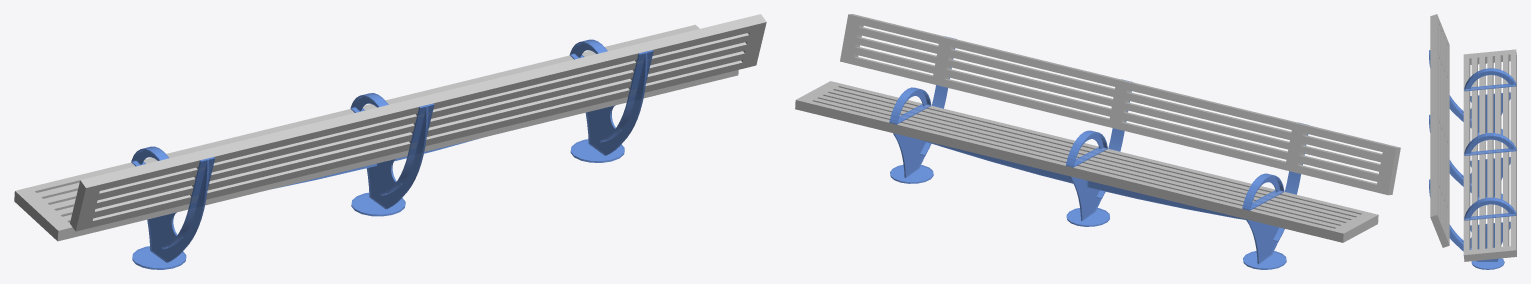
3 views of the same model, side by side, from view 1: azimuth 30°, elevation 25°; view 2: azimuth 150°, elevation 25°; view 3: azimuth 270°, elevation 25° (orthographic). The views are drawn at different scales.
Parts seen in each view (by area): view 1: mesh1_mesh1-geometry, mesh9_mesh9-geometry, mesh5_mesh5-geometry, mesh7_mesh7-geometry; view 2: mesh1_mesh1-geometry, mesh5_mesh5-geometry, mesh9_mesh9-geometry, mesh7_mesh7-geometry, mesh3_mesh3-geometry; view 3: mesh5_mesh5-geometry, mesh1_mesh1-geometry, mesh9_mesh9-geometry, mesh7_mesh7-geometry.
Part boxes in pixels (left/top/right/bottom): mesh1_mesh1-geometry: left=70, top=14, right=766, bottom=231; mesh9_mesh9-geometry: left=132, top=50, right=653, bottom=269; mesh5_mesh5-geometry: left=14, top=24, right=738, bottom=241; mesh7_mesh7-geometry: left=131, top=39, right=607, bottom=166; mesh1_mesh1-geometry: left=840, top=14, right=1400, bottom=195; mesh5_mesh5-geometry: left=795, top=81, right=1378, bottom=242; mesh9_mesh9-geometry: left=890, top=36, right=1308, bottom=269; mesh7_mesh7-geometry: left=889, top=87, right=1284, bottom=210; mesh3_mesh3-geometry: left=921, top=140, right=1246, bottom=219; mesh5_mesh5-geometry: left=1463, top=49, right=1516, bottom=261; mesh1_mesh1-geometry: left=1430, top=14, right=1449, bottom=247; mesh9_mesh9-geometry: left=1429, top=50, right=1510, bottom=269; mesh7_mesh7-geometry: left=1464, top=68, right=1516, bottom=220.
Size of the model in its own units: 0.9657 by 0.1882 by 0.1788.
